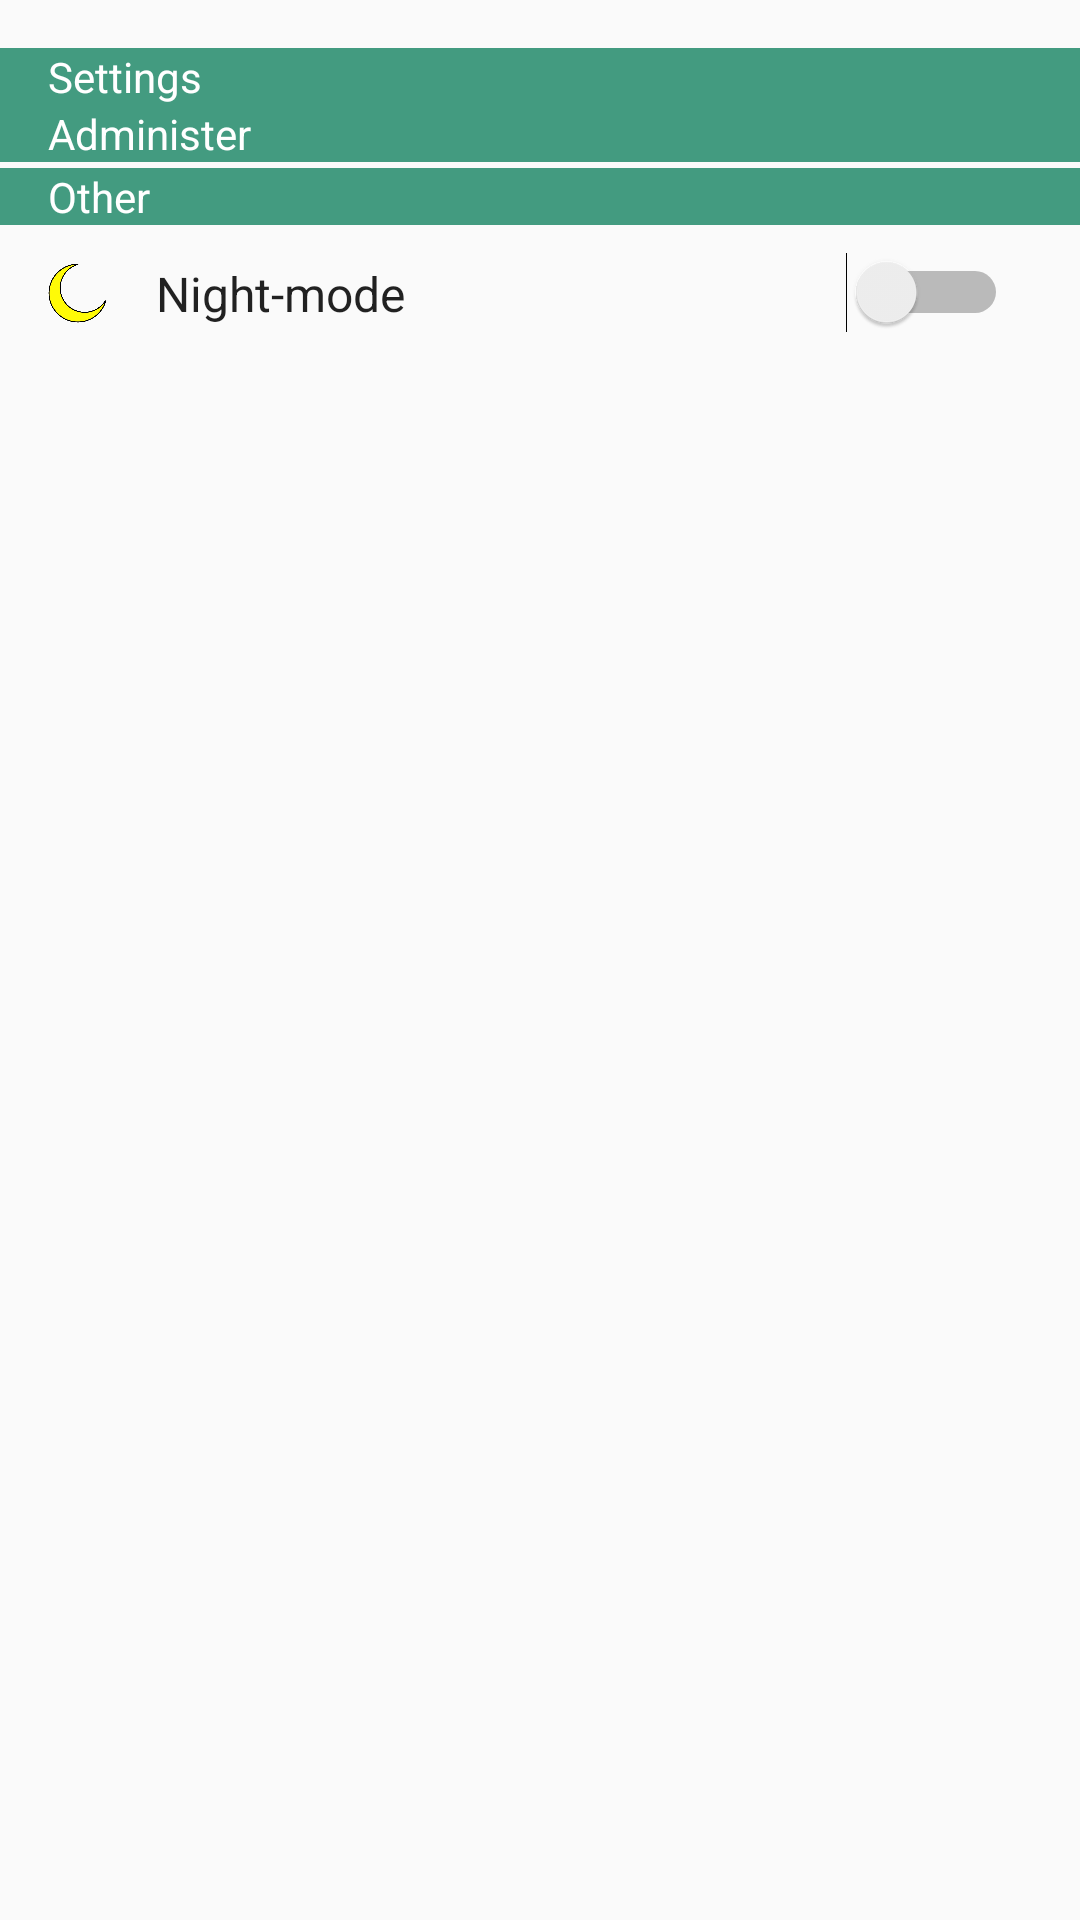

Screen size 1080*1920. Icon name, then its box in pixels as (x1, y1, x2, y2):
crescent moon icon: (48, 264, 106, 323)
